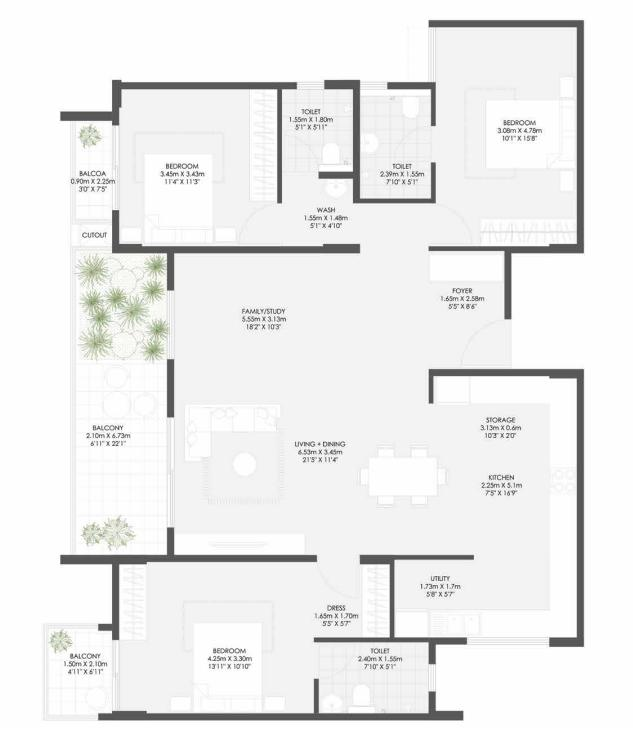Balcony: (73, 246, 170, 559), (43, 627, 116, 718)
Bed: (486, 99, 578, 170), (145, 153, 213, 247), (191, 622, 260, 713)
Bedroom: (434, 23, 581, 249), (118, 560, 318, 720), (117, 86, 281, 252)
Dining Room: (340, 406, 469, 552)
Dining table: (354, 442, 455, 516)
Foyer: (356, 254, 510, 369)
Kitchen: (466, 382, 577, 638)
Living Room: (173, 400, 342, 555)
Sofa: (186, 405, 279, 433), (184, 407, 212, 461)
Wardrobe: (481, 217, 577, 251), (251, 89, 277, 202), (361, 565, 390, 641), (120, 561, 146, 638)
balcoa: (66, 122, 116, 222)
commode: (322, 143, 339, 164), (404, 96, 420, 117), (353, 685, 370, 704)
dress: (316, 557, 391, 640)
fridge: (436, 377, 470, 403)
kitchen-slab: (547, 372, 580, 644), (431, 609, 577, 638), (470, 372, 577, 406)
sink: (430, 612, 481, 636), (360, 133, 379, 154), (325, 180, 347, 198), (322, 694, 344, 712)
stove: (551, 468, 576, 493)
study: (174, 255, 356, 400)
toilet: (358, 84, 435, 200), (319, 641, 431, 716), (282, 87, 355, 177)
utility: (395, 558, 475, 640)
wash: (283, 178, 355, 246)
washing-machine: (396, 610, 429, 637)
